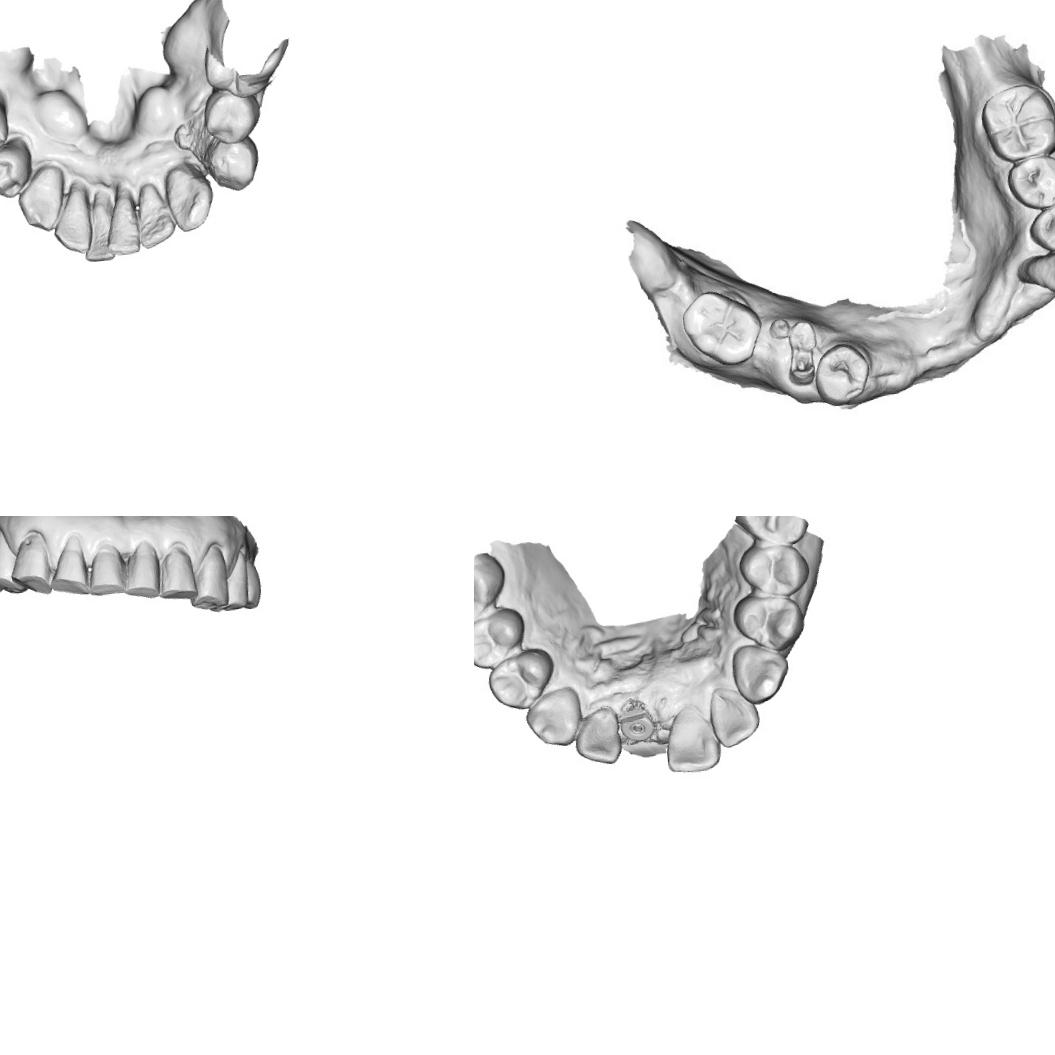canine: (522, 684, 584, 751), (13, 163, 70, 235), (728, 640, 790, 706), (162, 163, 217, 235), (184, 542, 230, 615), (6, 528, 53, 598), (1018, 245, 1055, 303)
implant: (620, 704, 657, 742)
incisor: (660, 703, 721, 775), (706, 684, 761, 751), (570, 702, 623, 769), (47, 186, 96, 256), (132, 178, 177, 252), (45, 531, 92, 597), (119, 538, 162, 600), (154, 542, 198, 602), (102, 196, 142, 258), (79, 200, 117, 264), (84, 540, 127, 596)
molar: (676, 283, 765, 371), (977, 76, 1055, 165)
premolar: (483, 644, 556, 712), (730, 592, 807, 656), (811, 336, 877, 410), (736, 541, 810, 598), (197, 86, 262, 148), (202, 134, 268, 194), (474, 604, 527, 670), (1001, 147, 1055, 211), (0, 136, 35, 200), (216, 548, 250, 613), (0, 526, 28, 597), (1027, 201, 1055, 254), (239, 557, 263, 610), (0, 96, 12, 159)
